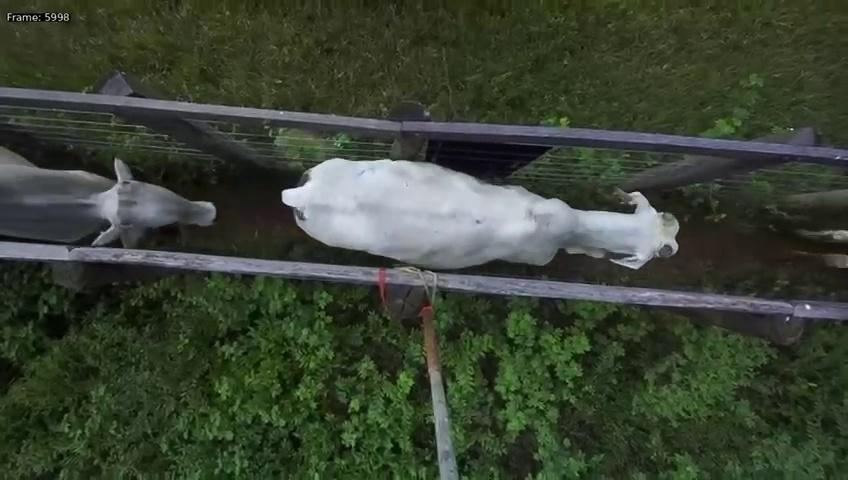cattle: (279, 149, 687, 275)
